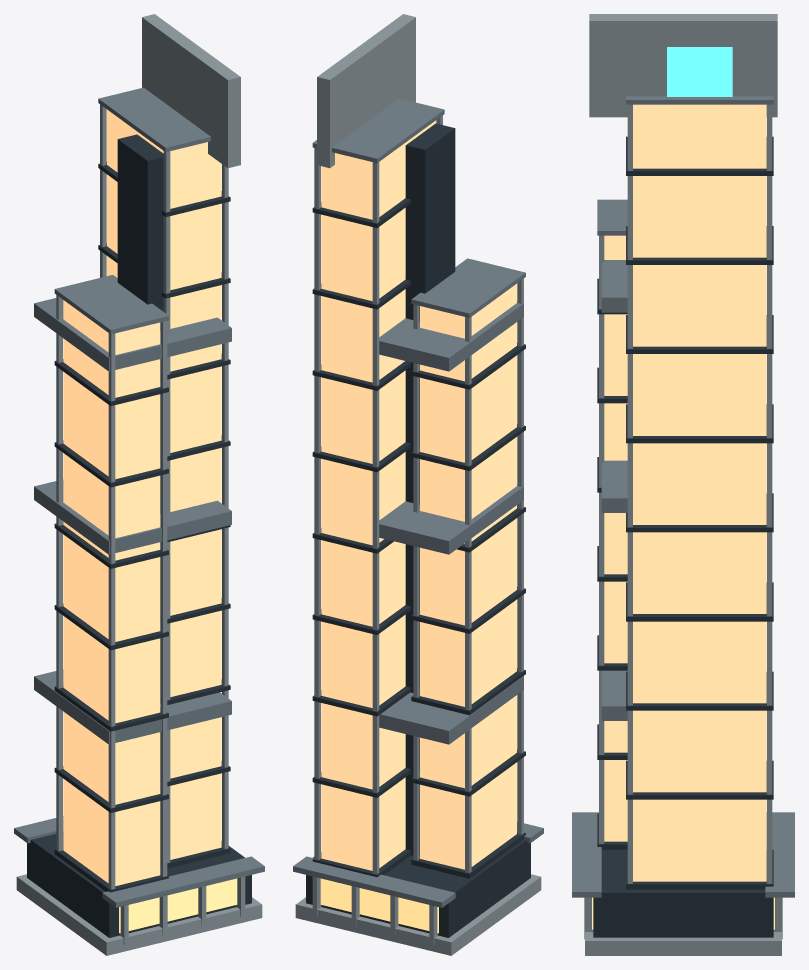
File: vrx_city_hotel_a_LOD1.fbx
The picture shows the model from 3 angles, left to right: view 1: azimuth 30°, elevation 25°; view 2: azimuth 150°, elevation 25°; view 3: azimuth 270°, elevation 25°; orthographic projection. The views are drawn at different scales.
Visible parts, largest first — view 1: vrx_city_hotel_a_LOD1; view 2: vrx_city_hotel_a_LOD1; view 3: vrx_city_hotel_a_LOD1.
Boxes of the visible parts, x1,y1,x2,y2 form: vrx_city_hotel_a_LOD1: (14, 14, 264, 955); vrx_city_hotel_a_LOD1: (293, 14, 543, 955); vrx_city_hotel_a_LOD1: (572, 14, 794, 955).
Size of the model in its own units: 24 by 124 by 27.2.
